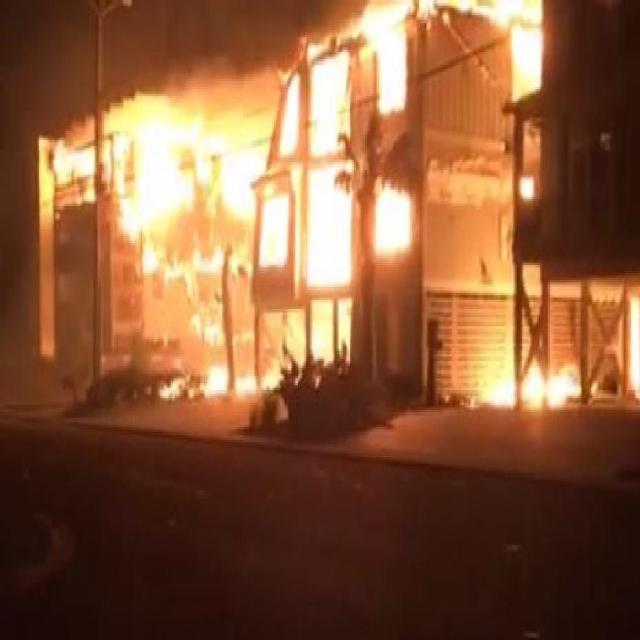Fire: (57, 10, 640, 418)
